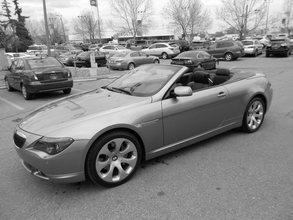car: (14, 63, 275, 188)
